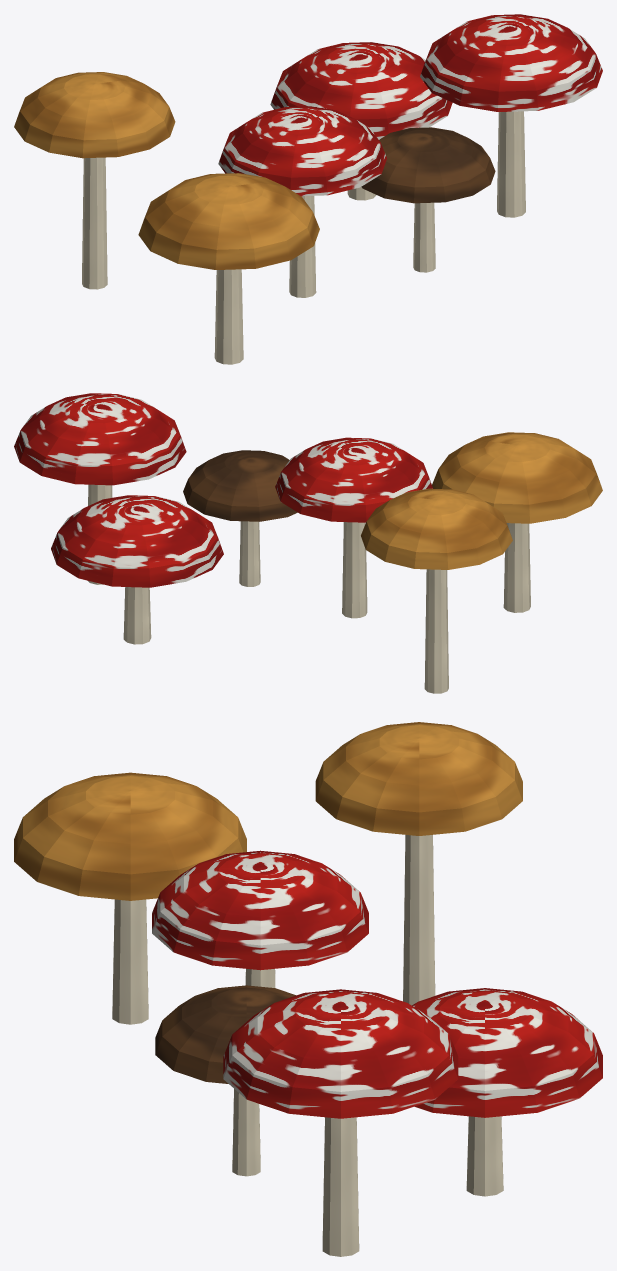
The model's file is ground_fungus_patch_v1.fbx.
The picture shows the model from 3 angles, top to bottom: view 1: azimuth 30°, elevation 25°; view 2: azimuth 150°, elevation 25°; view 3: azimuth 270°, elevation 25°; orthographic projection. The views are drawn at different scales.
Visible parts, largest first — view 1: ground_fungus_patch_v1; view 2: ground_fungus_patch_v1; view 3: ground_fungus_patch_v1.
Boxes of the visible parts, x1,y1,x2,y2 form: ground_fungus_patch_v1: (14,14,602,364); ground_fungus_patch_v1: (14,393,602,693); ground_fungus_patch_v1: (14,722,602,1256).
Size of the model in its own units: 25.17 by 8.97 by 18.23.
4 materials, 4 textured.
